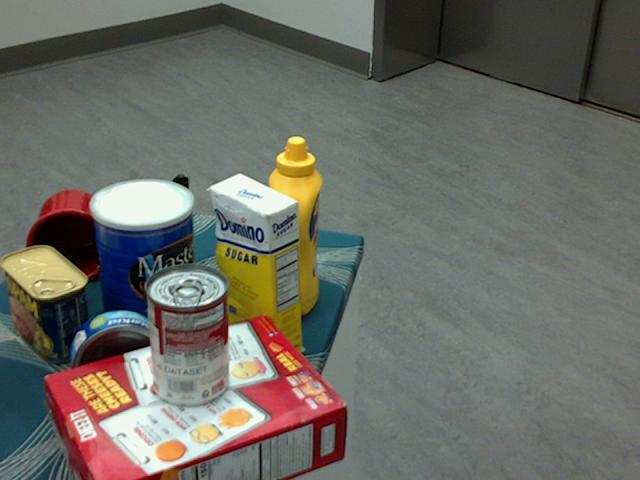cracker_box: (47, 316, 347, 479)
large_marker: (173, 174, 193, 269)
master_chef_can: (89, 179, 196, 342)
mug: (19, 190, 112, 284)
mustard_bottle: (266, 136, 321, 315)
potted_meat_can: (0, 244, 91, 362)
sugar_box: (210, 172, 302, 366)
tomato_soup_can: (143, 265, 227, 408)
tuna_fish_can: (70, 310, 167, 404)
